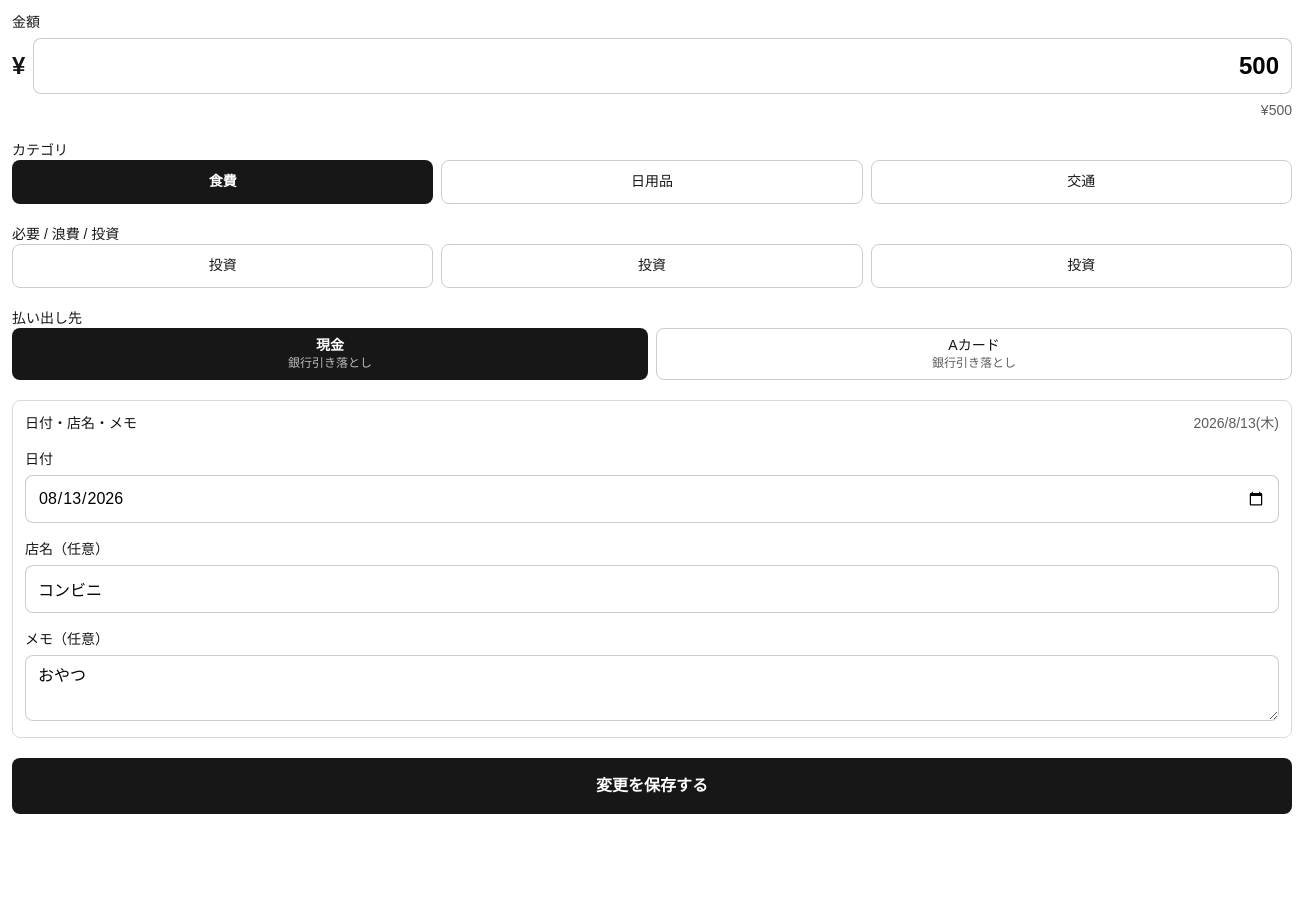
Test: savedCount が増えたときのクリア（create / edit の違い） › edit モードでは savedCount が増えても何もクリアされない
The image size is (1304, 912).
Click the button "変更を保存する" at {"x": 652, "y": 786}, box [12, 758, 1292, 814]
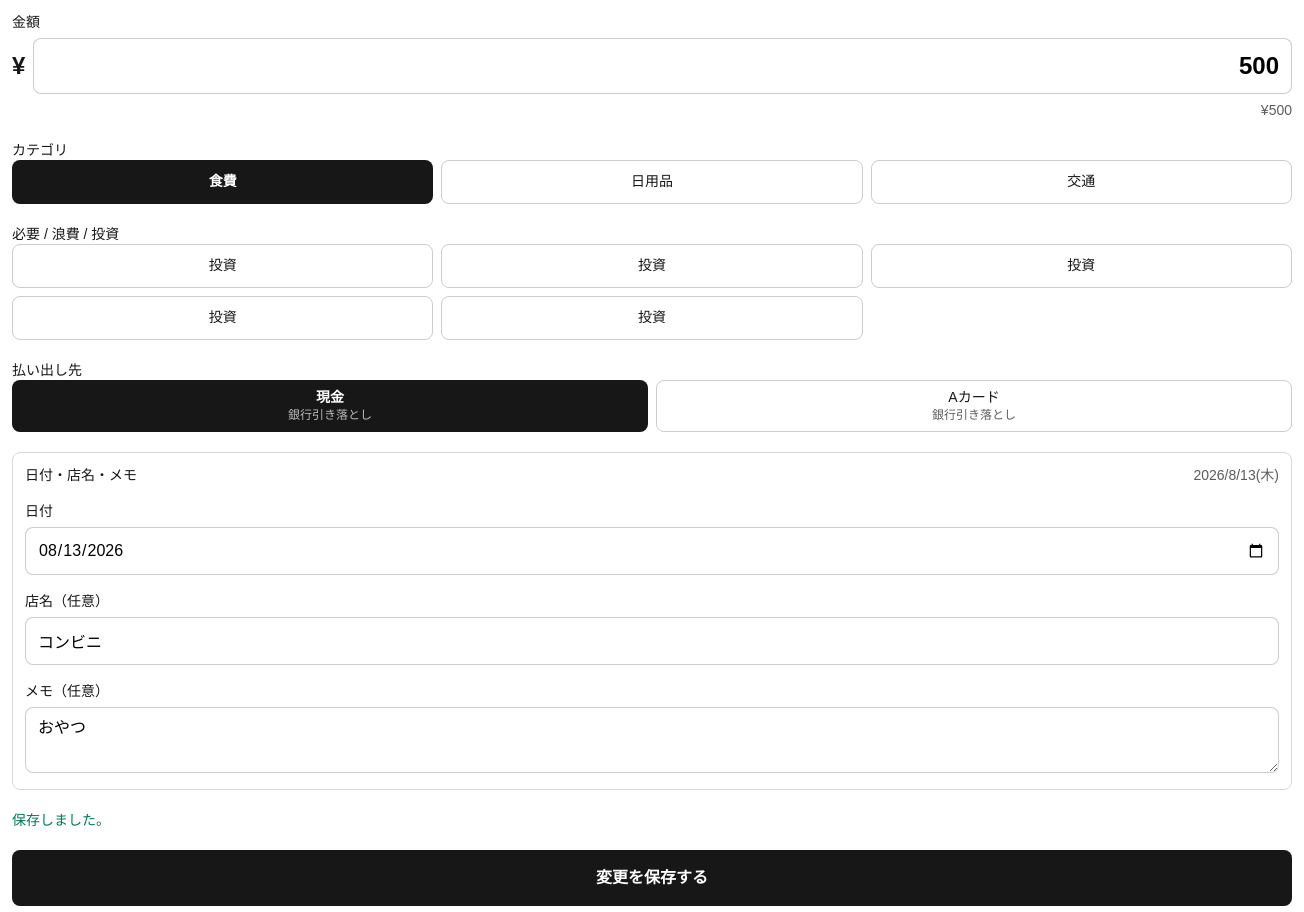
Check: the field labelled "金額" holds "500", box [33, 38, 1292, 94]
Check: the message "保存しました。" is shown, box [12, 812, 110, 828]
